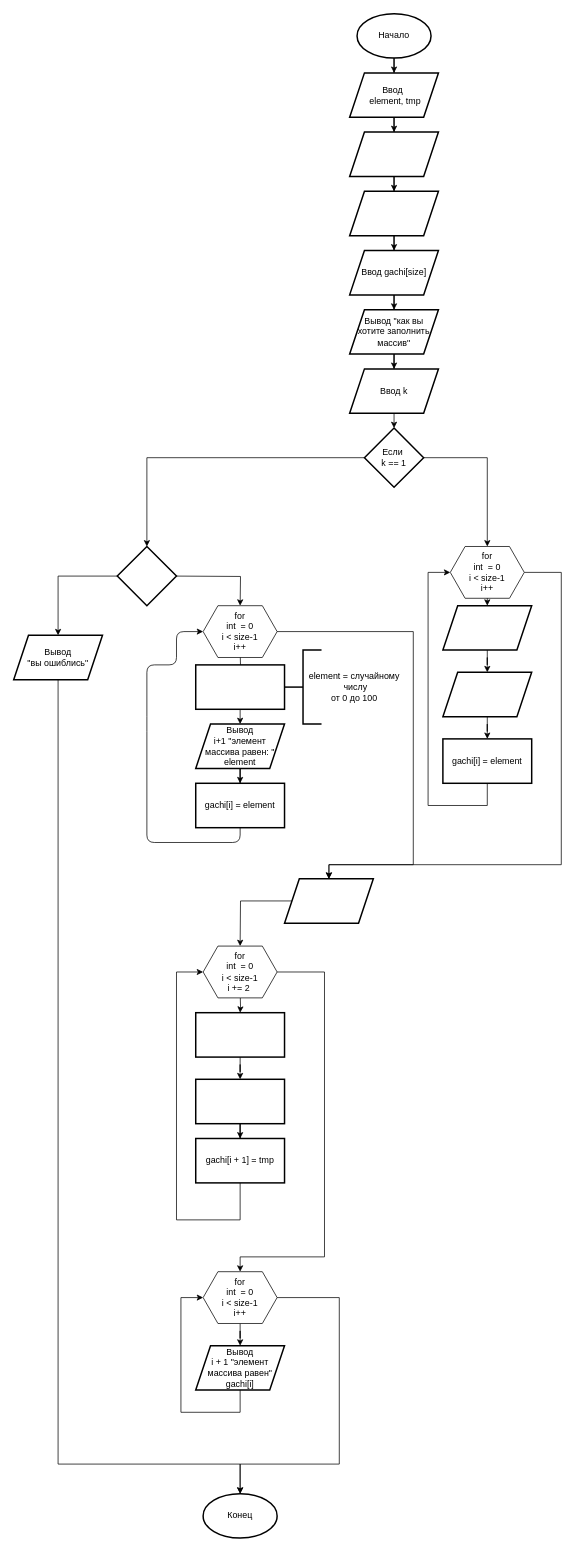
Image size: 580x1551. Some labels were removed from this diagram. Here are the shapes that lost their labels. From the top down, the centre of each, then its label:
point 394,154: Вывод "Введите размер массива:"
point 394,213: Ввод size
point 146,575: Иначе если k == 2
point 487,627: Вывод "Введите" i + 1 "элемент массива"
point 240,687: element = rand() % 101
point 487,694: Ввод element
point 328,901: Вывод "Меняем местами."
point 240,1034: tmp = gachi[i]
point 240,1101: gachi[i] = gachi[i + 1]
